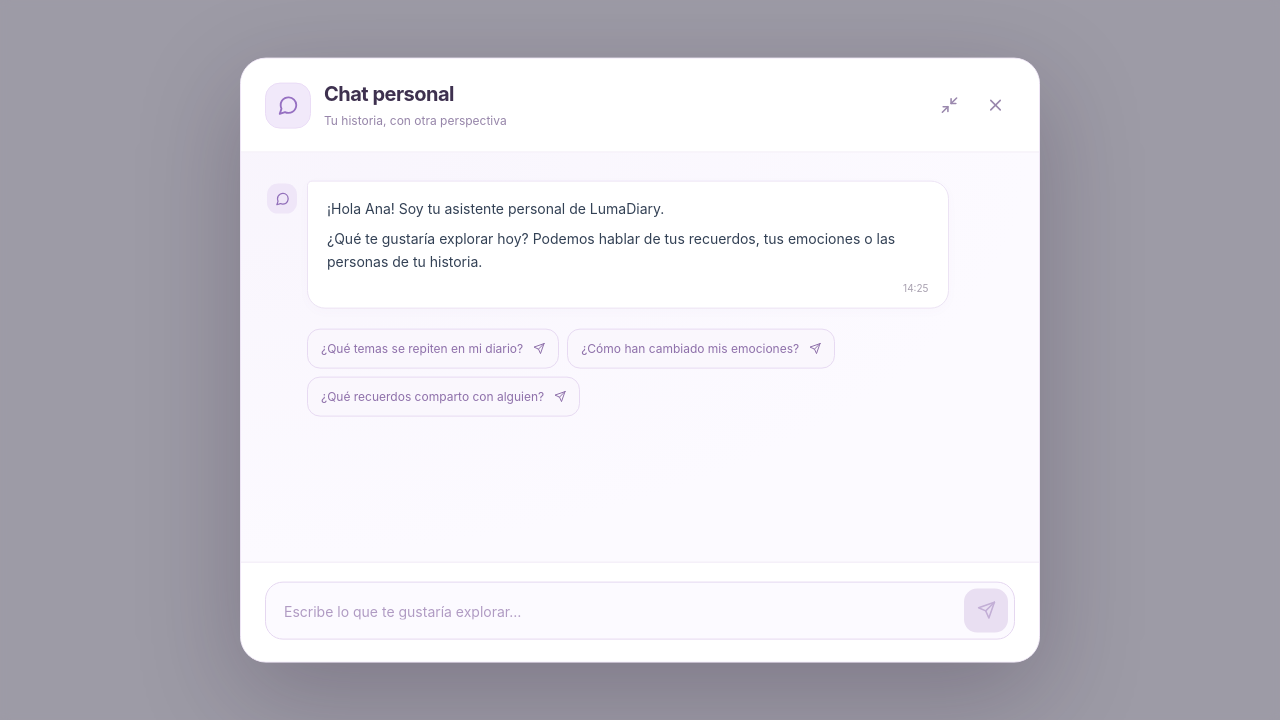
Scenario: personal chat distinguishes an unavailable quota from an exhausted quota
Type "Hola" into the field.
click(613, 610); type("Hola")  # box x1=272 y1=588 x2=954 y2=632
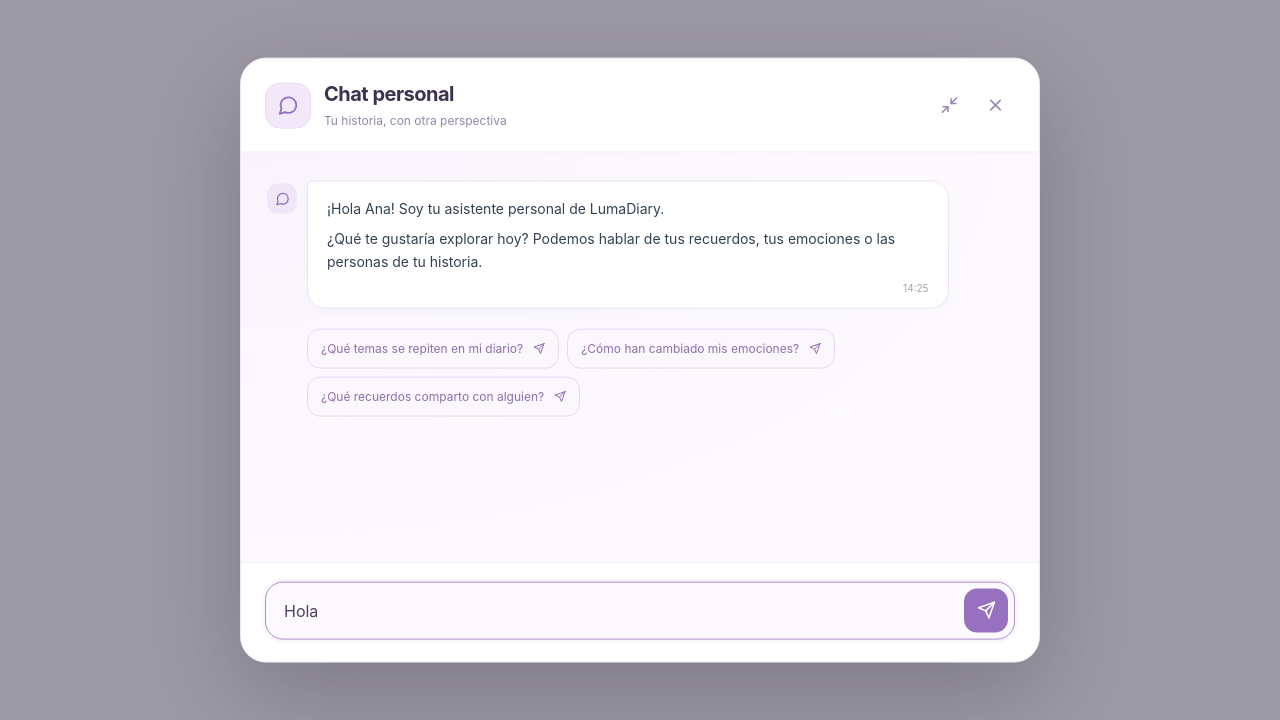
Click the button named "Enviar mensaje".
click(986, 610)  # box x1=964 y1=588 x2=1008 y2=632
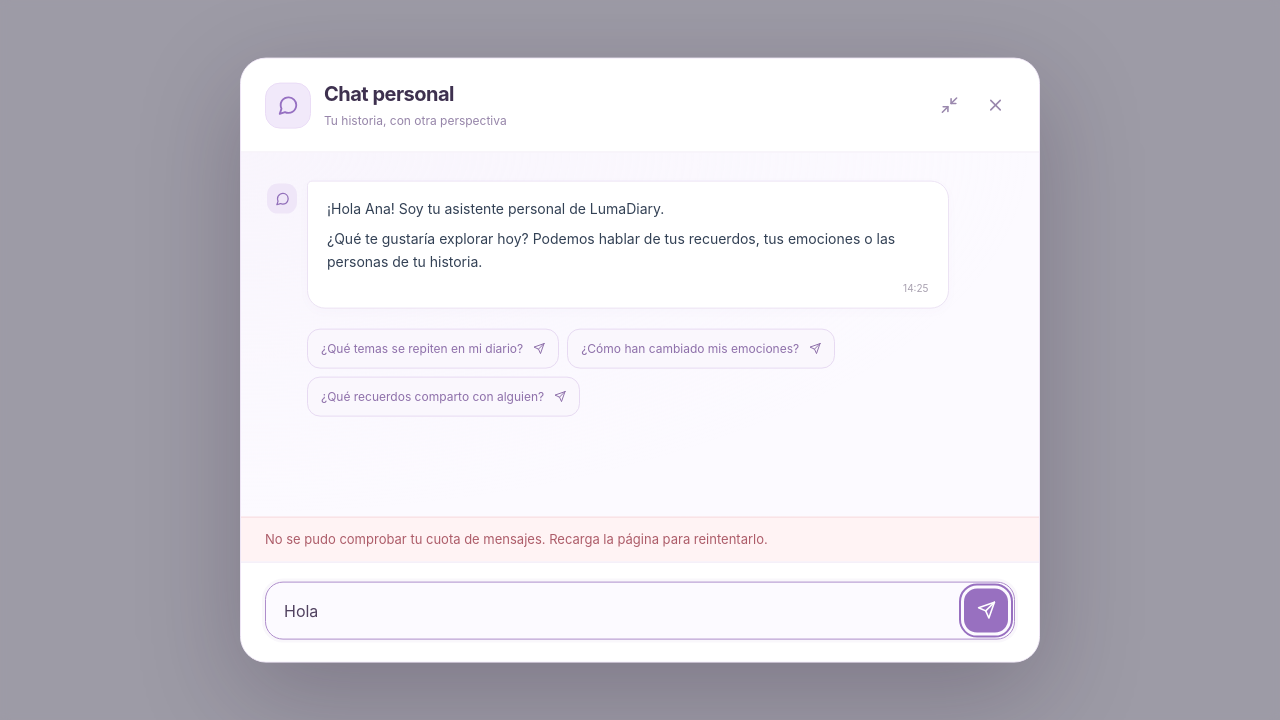
Expected: the text "No se pudo comprobar tu cuota" is shown, x1=265 y1=531 x2=768 y2=547
